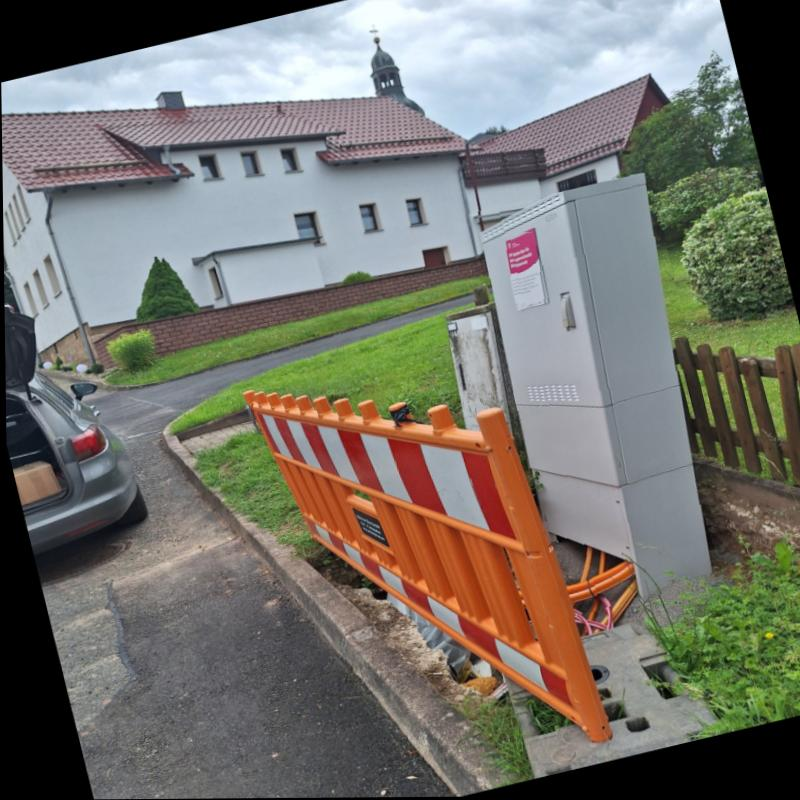NT-Gehause: (482, 171, 718, 599)
Steaker: (503, 231, 544, 311)
